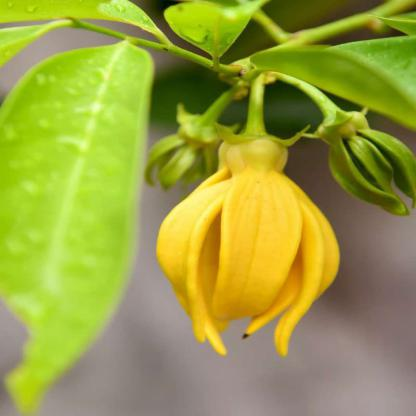Kenanga: (194, 121, 316, 359), (327, 103, 395, 221), (165, 110, 219, 163)
